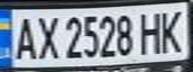2: (60, 11, 84, 60), (97, 11, 118, 58)
5: (78, 11, 100, 60)
8: (115, 11, 139, 56)
A: (9, 12, 39, 61)
H: (136, 8, 166, 55)
K: (154, 6, 190, 54)
X: (33, 11, 60, 61)
